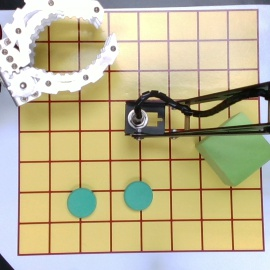green: (123, 181, 152, 210), (67, 189, 96, 218)
